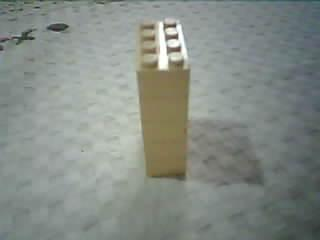lego: (134, 14, 193, 178)
